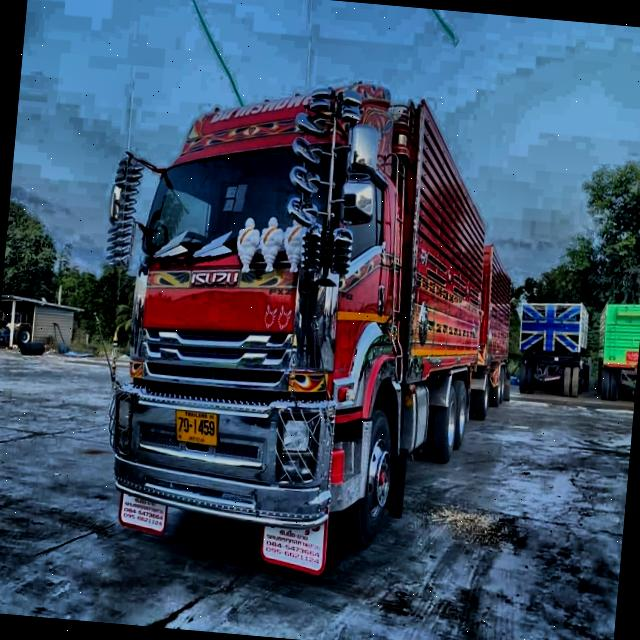trailer: (60, 39, 547, 598)
